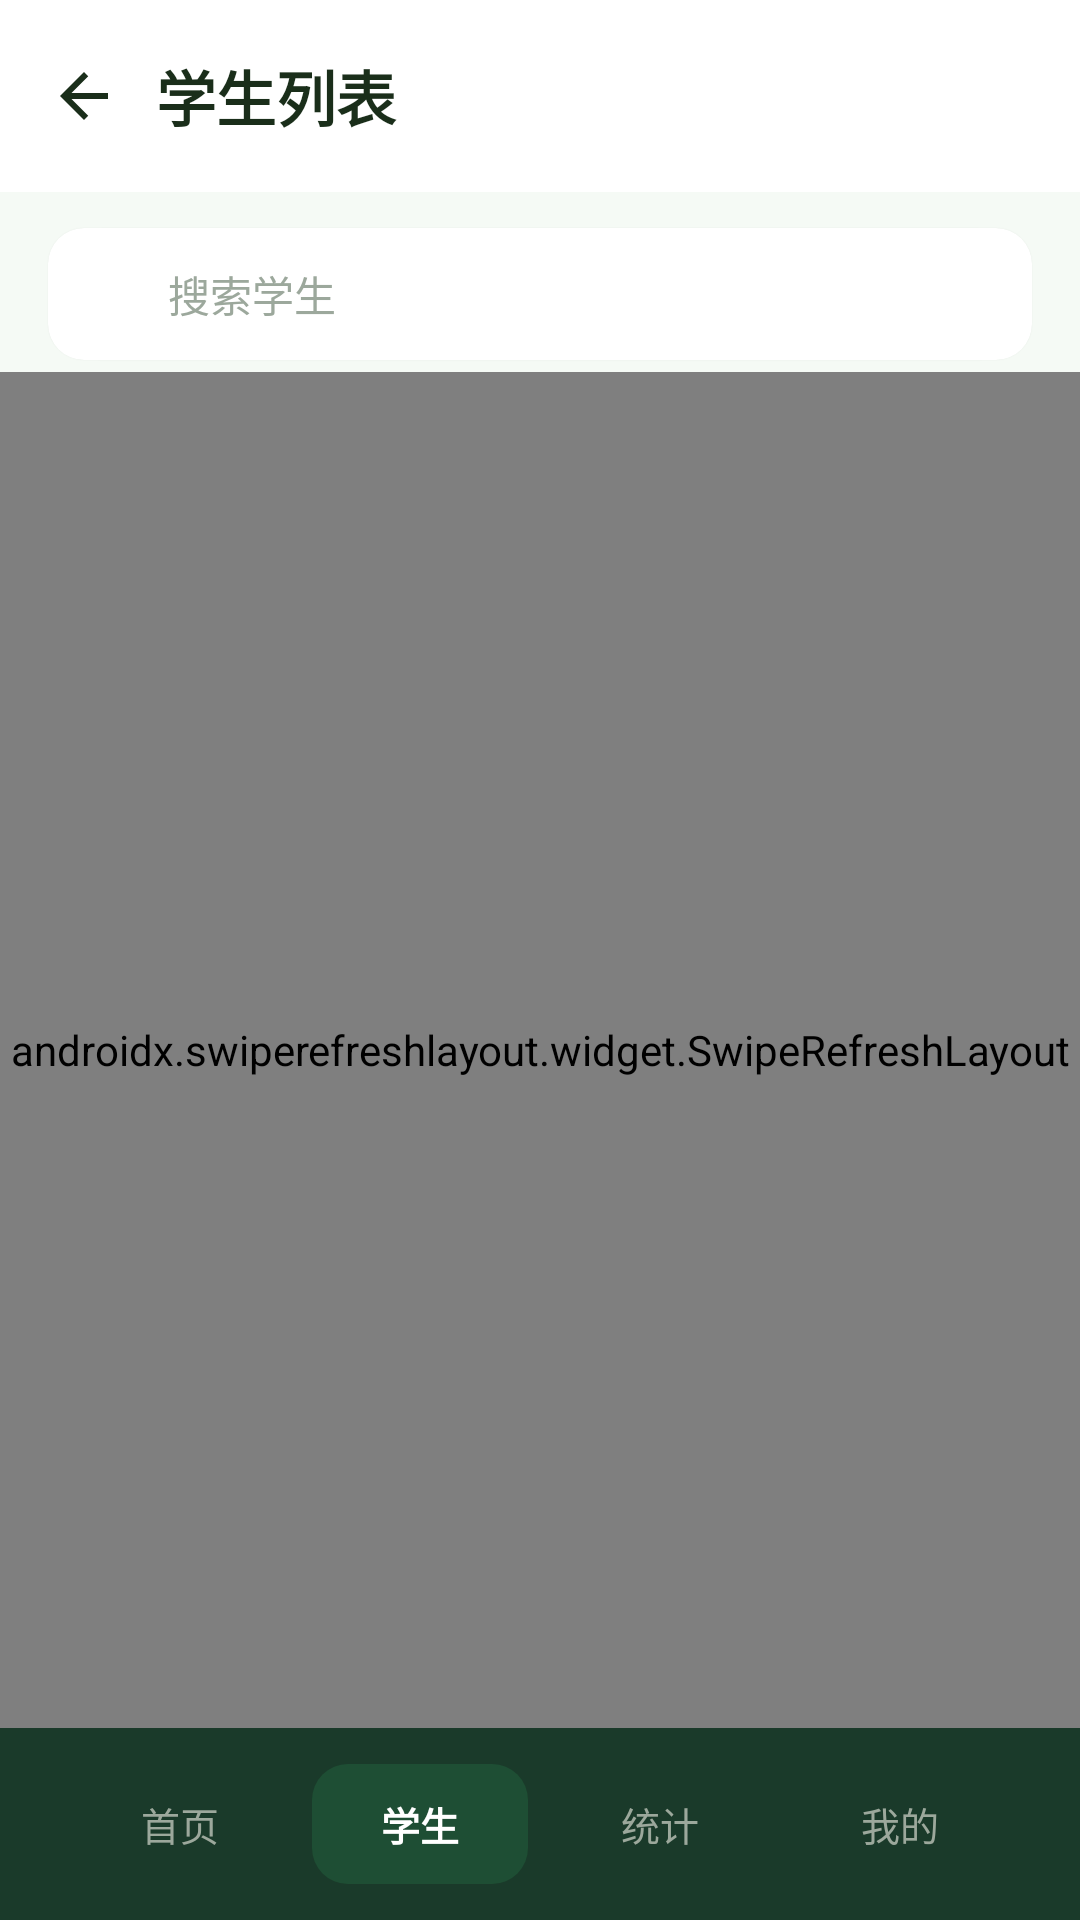

Locate icon controls on the screen. Image size 1080w x 1920h, boxes as (x1, y1, x2, y2).
返回: (60, 72, 108, 120)
